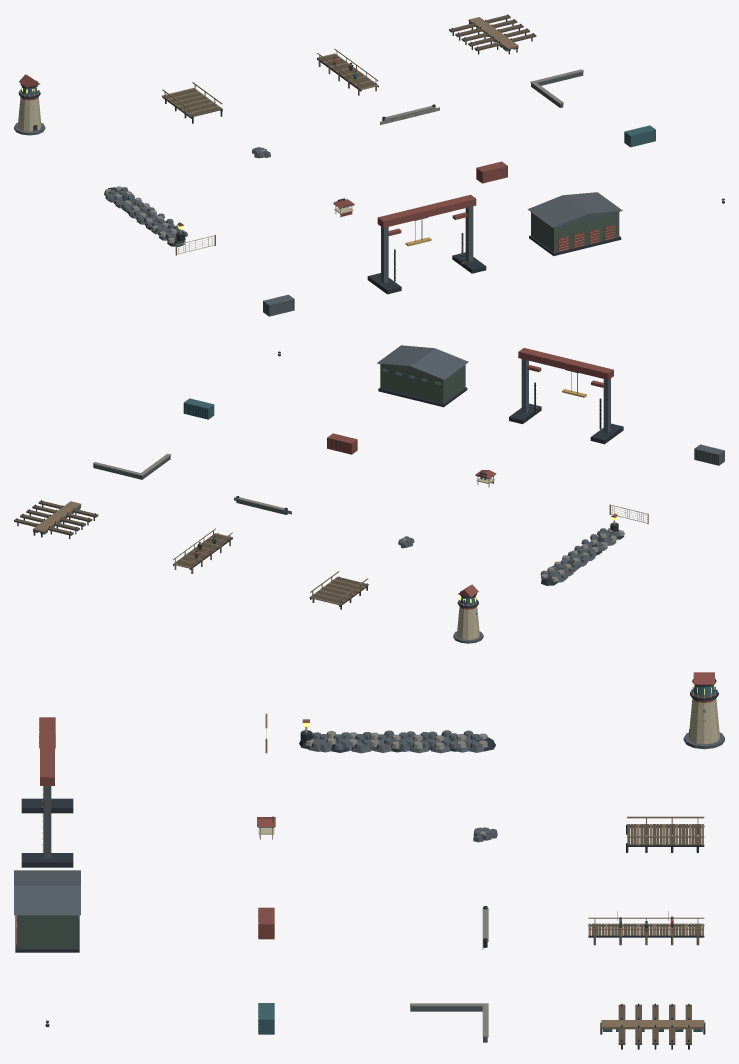
Rendered from gotham_waterfront_kit.glb.
3 views of the same model, one above another, from view 1: azimuth 30°, elevation 25°; view 2: azimuth 150°, elevation 25°; view 3: azimuth 270°, elevation 25° (orthographic). The views are drawn at different scales.
Visible parts, largest first — view 1: Warehouse_shed_roof, Warehouse_body, Crane_gantry_beam, Lighthouse_lower_shaft, Container_Slate_body, Container_Rust_body, Container_Teal_body, Marina_main_walkway; view 2: Warehouse_body, Warehouse_shed_roof, Crane_gantry_beam, Lighthouse_lower_shaft, Container_Teal_body, Container_Rust_body, Container_Slate_body, Marina_main_walkway; view 3: Warehouse_shed_roof, Warehouse_body, Lighthouse_lower_shaft, Crane_gantry_beam, Marina_main_walkway, Crane_runway_foot.001, Crane_runway_foot, Crane_leg.001.
Boxes of the visible parts, left/top/right/bottom form: Warehouse_shed_roof: left=527, top=192, right=622, bottom=227; Warehouse_body: left=531, top=212, right=619, bottom=252; Crane_gantry_beam: left=377, top=194, right=476, bottom=227; Lighthouse_lower_shaft: left=17, top=97, right=41, bottom=131; Container_Slate_body: left=263, top=294, right=294, bottom=316; Container_Rust_body: left=476, top=161, right=507, bottom=183; Container_Teal_body: left=624, top=125, right=655, bottom=147; Marina_main_walkway: left=468, top=17, right=518, bottom=49; Warehouse_body: left=380, top=364, right=465, bottom=403; Warehouse_shed_roof: left=377, top=345, right=468, bottom=379; Crane_gantry_beam: left=518, top=348, right=613, bottom=379; Lighthouse_lower_shaft: left=457, top=606, right=479, bottom=639; Container_Teal_body: left=183, top=398, right=214, bottom=419; Container_Rust_body: left=327, top=433, right=357, bottom=454; Container_Slate_body: left=694, top=444, right=724, bottom=465; Marina_main_walkway: left=33, top=501, right=81, bottom=533; Warehouse_shed_roof: left=14, top=870, right=80, bottom=915; Warehouse_body: left=17, top=915, right=77, bottom=948; Lighthouse_lower_shaft: left=688, top=698, right=719, bottom=744; Crane_gantry_beam: left=40, top=717, right=54, bottom=785; Marina_main_walkway: left=601, top=1020, right=704, bottom=1029; Crane_runway_foot.001: left=21, top=853, right=73, bottom=867; Crane_runway_foot: left=21, top=798, right=73, bottom=813; Crane_leg.001: left=43, top=786, right=51, bottom=859.
Bounding box in the file's own units: 117 × 16.55 × 110.
